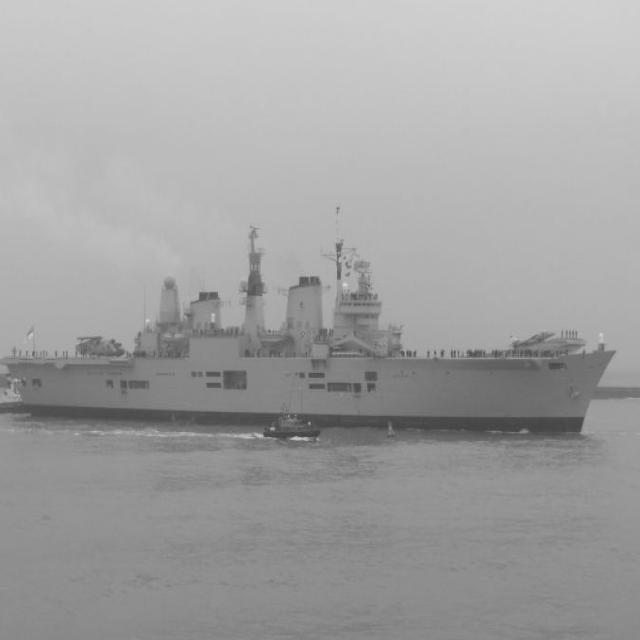Portanaves: (1, 210, 621, 428)
